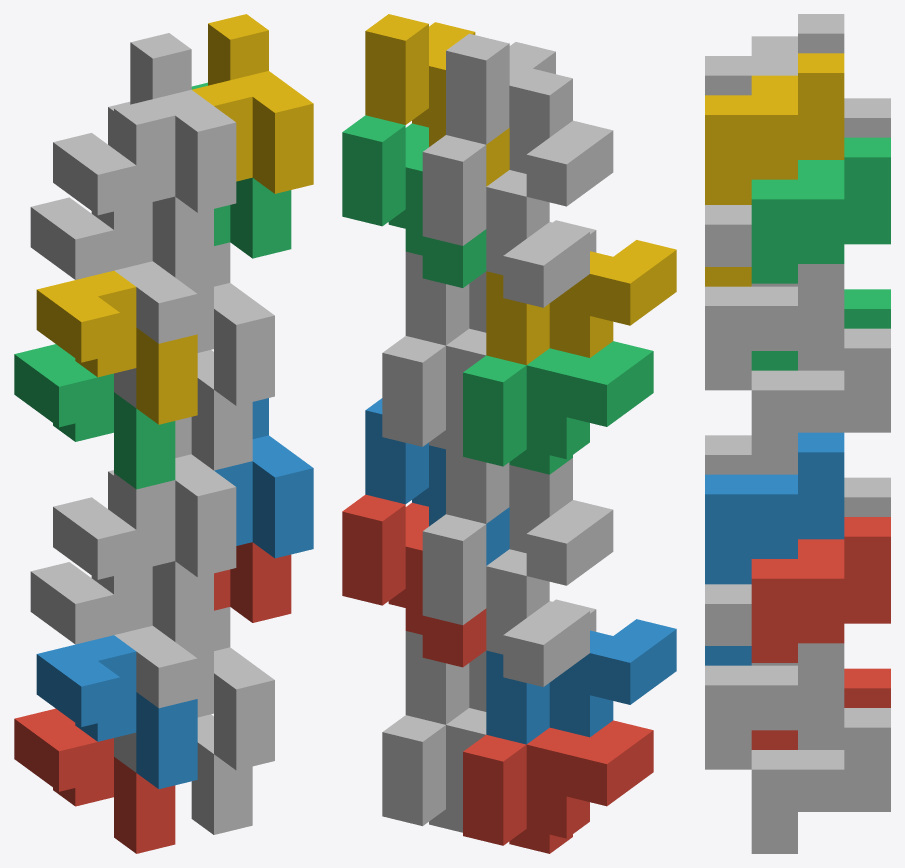
Rendered from tiling.obj.
3 views of the same model, side by side, from view 1: azimuth 30°, elevation 25°; view 2: azimuth 150°, elevation 25°; view 3: azimuth 270°, elevation 25° (orthographic). The views are drawn at different scales.
Parts seen in each view (by area): view 1: copy_2_domain_4, copy_2_domain_2, copy_1_domain_4, copy_1_domain_2, copy_1_domain_8, copy_1_domain_6, copy_2_domain_8, copy_2_domain_3, copy_2_domain_1, copy_1_domain_1, copy_1_domain_3, copy_2_domain_6 (+4 smaller); view 2: copy_2_domain_4, copy_1_domain_1, copy_1_domain_3, copy_2_domain_1, copy_2_domain_3, copy_2_domain_2, copy_1_domain_2, copy_1_domain_4, copy_2_domain_5, copy_2_domain_7, copy_2_domain_8, copy_1_domain_5 (+4 smaller); view 3: copy_1_domain_8, copy_1_domain_6, copy_2_domain_7, copy_2_domain_8, copy_2_domain_5, copy_1_domain_7, copy_2_domain_6, copy_1_domain_5, copy_2_domain_4, copy_1_domain_1, copy_1_domain_3, copy_2_domain_1 (+4 smaller).
Boxes of the visible parts, <box> form: copy_2_domain_4: <box>53,33,236,215</box>; copy_2_domain_2: <box>53,417,236,579</box>; copy_1_domain_4: <box>36,270,197,424</box>; copy_1_domain_2: <box>36,635,197,789</box>; copy_1_domain_8: <box>114,242,274,405</box>; copy_1_domain_6: <box>114,607,274,770</box>; copy_2_domain_8: <box>192,14,313,193</box>; copy_2_domain_3: <box>30,101,213,279</box>; copy_2_domain_1: <box>30,470,213,644</box>; copy_1_domain_1: <box>14,708,175,853</box>; copy_1_domain_3: <box>14,344,175,489</box>; copy_2_domain_6: <box>214,398,313,558</box>; copy_2_domain_4: <box>446,33,613,206</box>; copy_1_domain_1: <box>463,720,653,853</box>; copy_1_domain_3: <box>463,341,653,474</box>; copy_2_domain_1: <box>422,514,589,686</box>; copy_2_domain_3: <box>422,135,589,307</box>; copy_2_domain_2: <box>446,430,613,585</box>; copy_1_domain_2: <box>486,619,676,744</box>; copy_1_domain_4: <box>486,240,676,365</box>; copy_2_domain_5: <box>342,494,486,667</box>; copy_2_domain_7: <box>342,115,486,287</box>; copy_2_domain_8: <box>365,14,509,186</box>; copy_1_domain_5: <box>382,708,486,832</box>; copy_1_domain_8: <box>705,205,844,390</box>; copy_1_domain_6: <box>705,584,844,769</box>; copy_2_domain_7: <box>751,137,890,283</box>; copy_2_domain_8: <box>705,53,844,199</box>; copy_2_domain_5: <box>751,517,890,662</box>; copy_1_domain_7: <box>751,328,890,474</box>; copy_2_domain_6: <box>705,432,844,578</box>; copy_1_domain_5: <box>751,708,890,853</box>; copy_2_domain_4: <box>705,14,844,95</box>; copy_1_domain_1: <box>751,668,890,749</box>; copy_1_domain_3: <box>751,289,890,370</box>; copy_2_domain_1: <box>844,477,890,516</box>.
Size of the model in its own units: 6 by 19 by 4.
